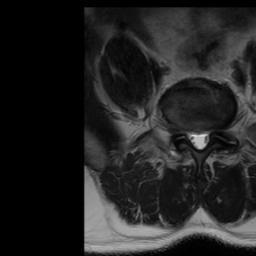CCS_normal: (196, 123, 201, 155)
LFS_severe_stenosis: (210, 121, 217, 143)
LLS_normal: (202, 125, 209, 150)
RFS_stenosis: (179, 123, 188, 146)
RLS_normal: (188, 126, 196, 152)
